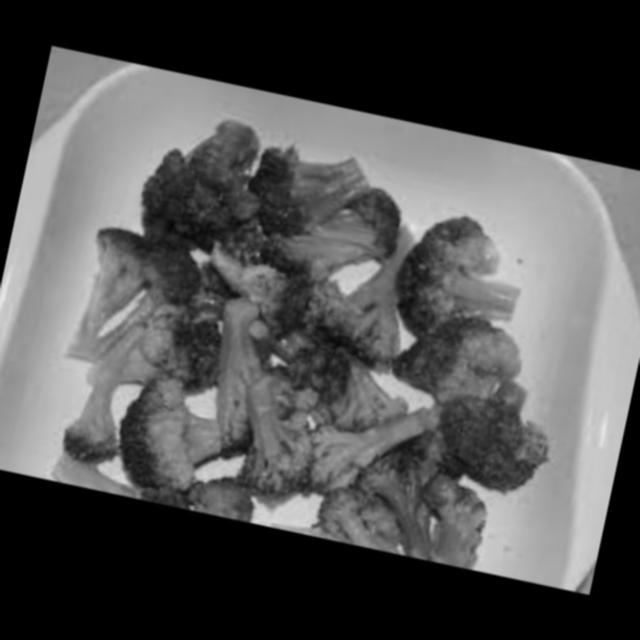bong cai xanh: (42, 103, 614, 582)
